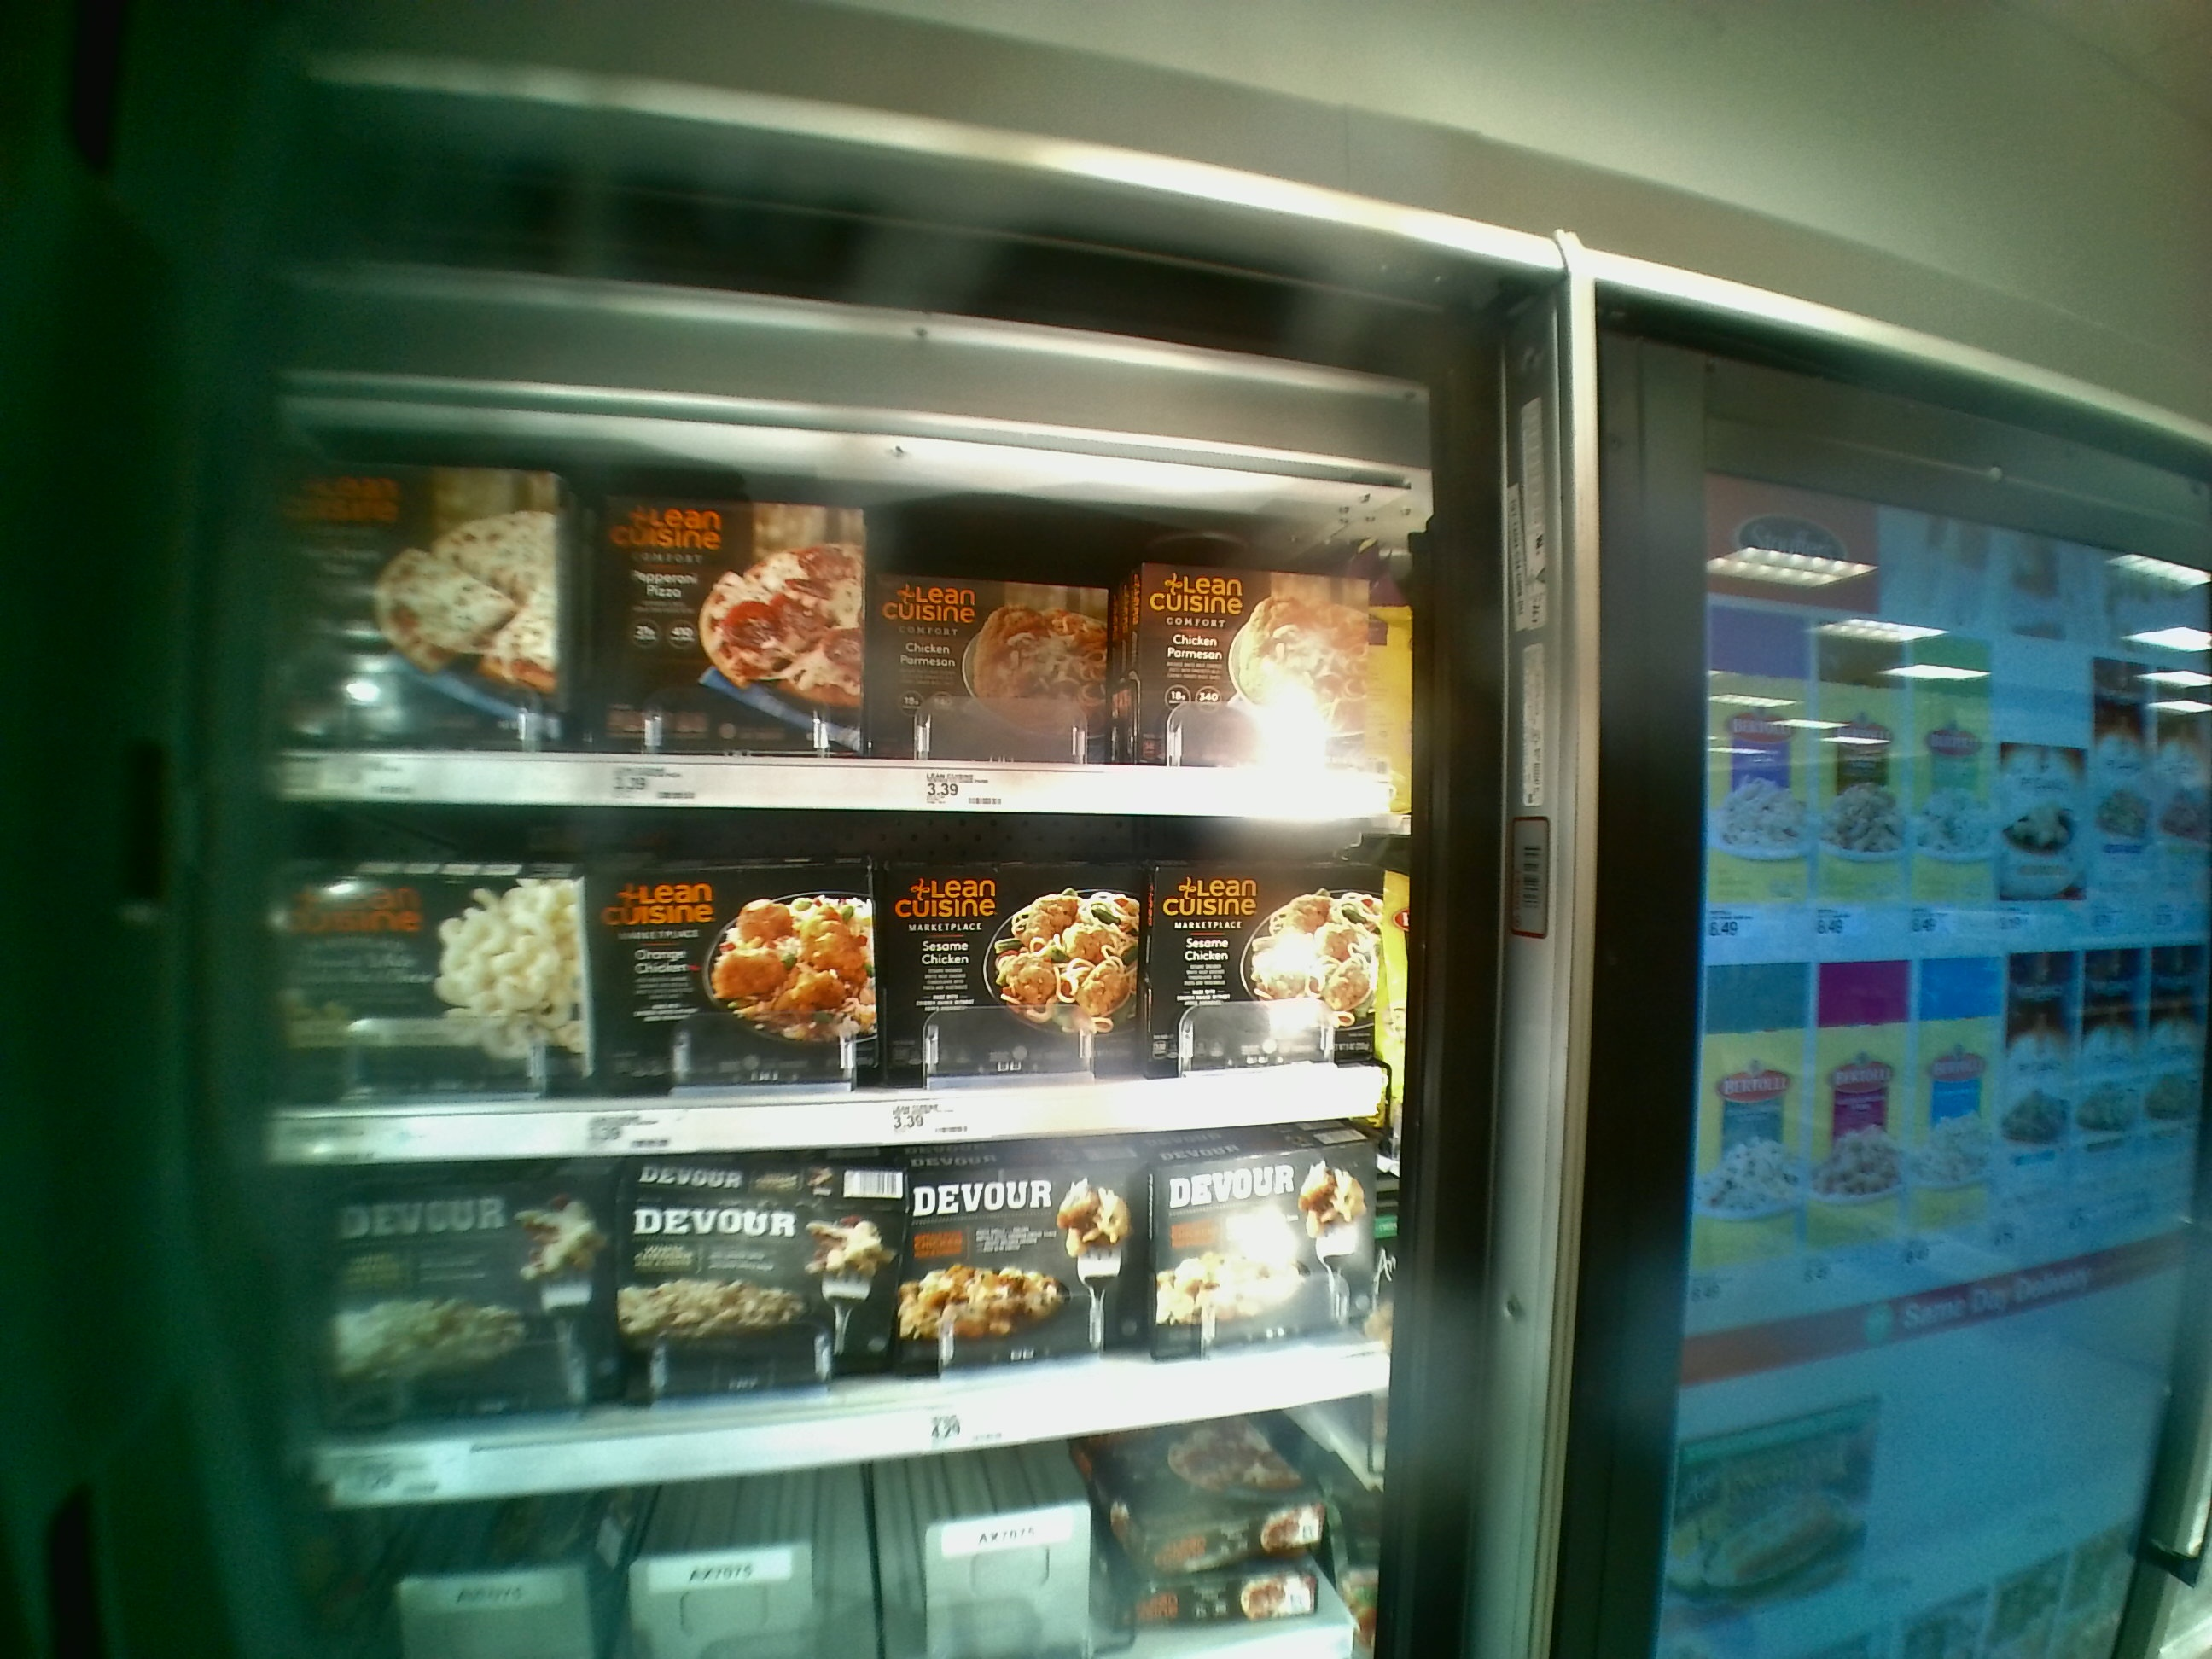shelf: (270, 397, 1406, 817), (284, 1105, 1388, 1504), (258, 807, 1418, 1166)
